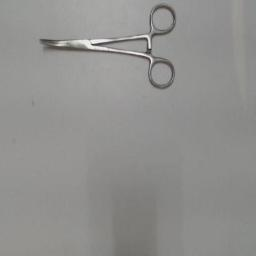Crile Artery Forceps: (36, 2, 182, 94)
